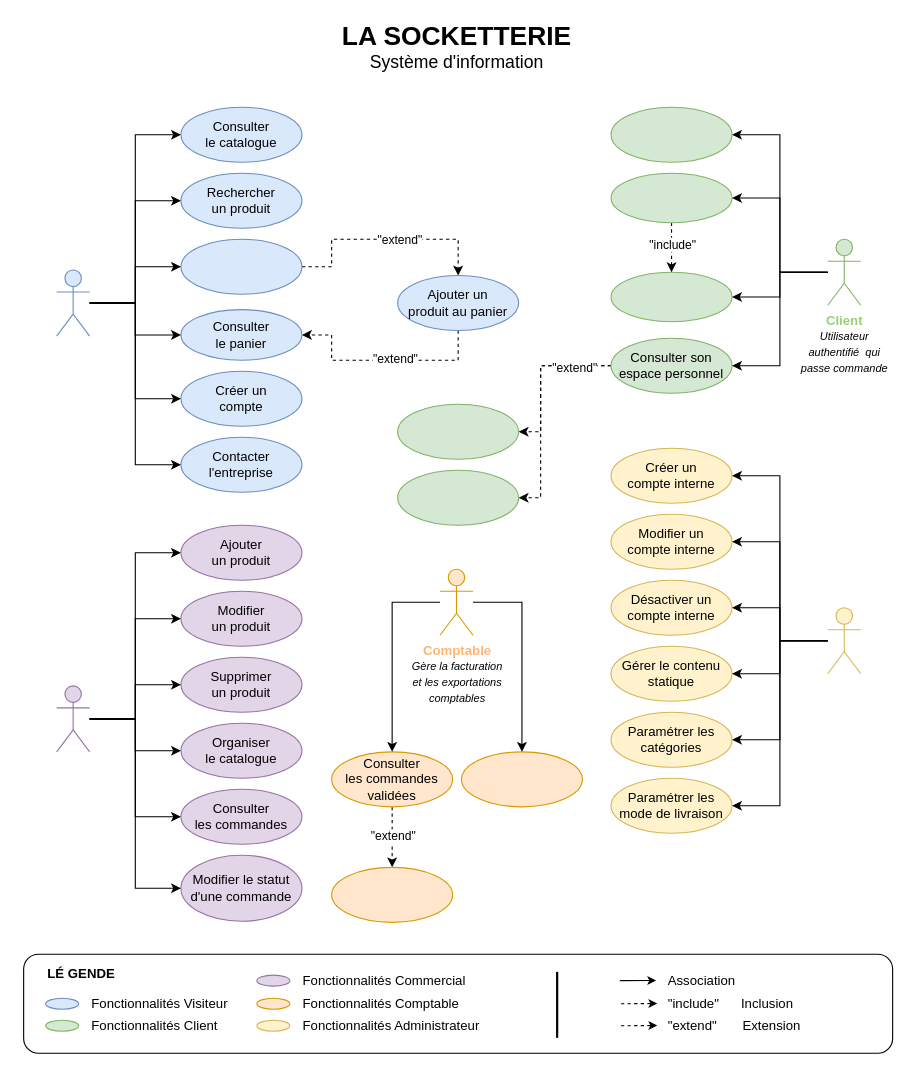
The diagram is 912 pixels wide and 1073 high, and some of its shapes have lost their labels. The shapes that lost their labels are listed below. From the top down, each one's centre as x and y in pixels, then its label:
point (671, 134): Se connecter
point (671, 197): Valider une commande
point (241, 266): Consulter une fiche produit
point (73, 302): Visiteur Utilisateur non authentifié qui découvre le site
point (671, 296): Payer une commande
point (458, 431): Modifier ses informations
point (458, 497): Consulter son historique de commandes
point (844, 640): Administrateur Administre le site, les comptes et les paramètres
point (73, 718): Commercial Gère l'organisation du catalogue et les commandes clients
point (521, 779): Exporter les données comptables
point (392, 894): Générer une facture
